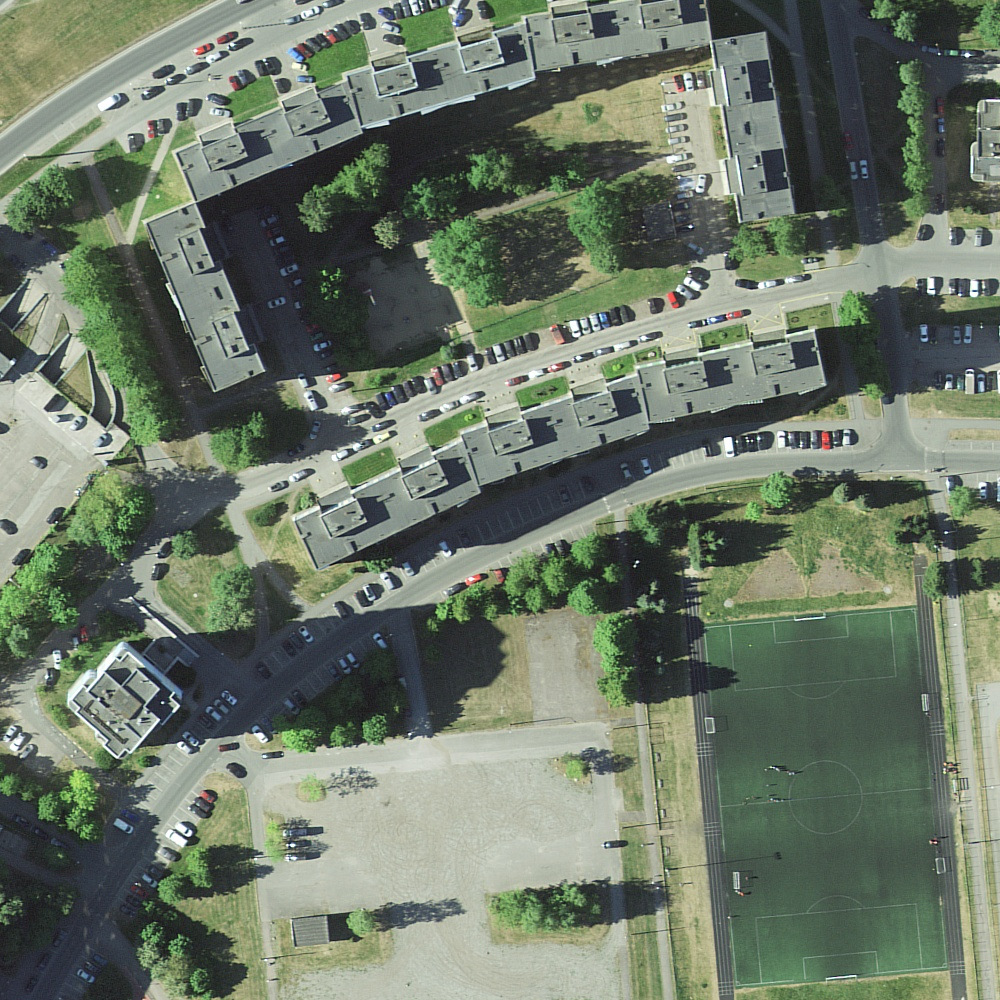building: (294, 440, 483, 569), (173, 82, 363, 203), (146, 201, 266, 392), (461, 374, 651, 486), (345, 25, 537, 128), (636, 330, 826, 422), (708, 32, 796, 223), (523, 1, 712, 70), (68, 647, 184, 758), (971, 101, 1000, 182), (292, 915, 330, 945)
